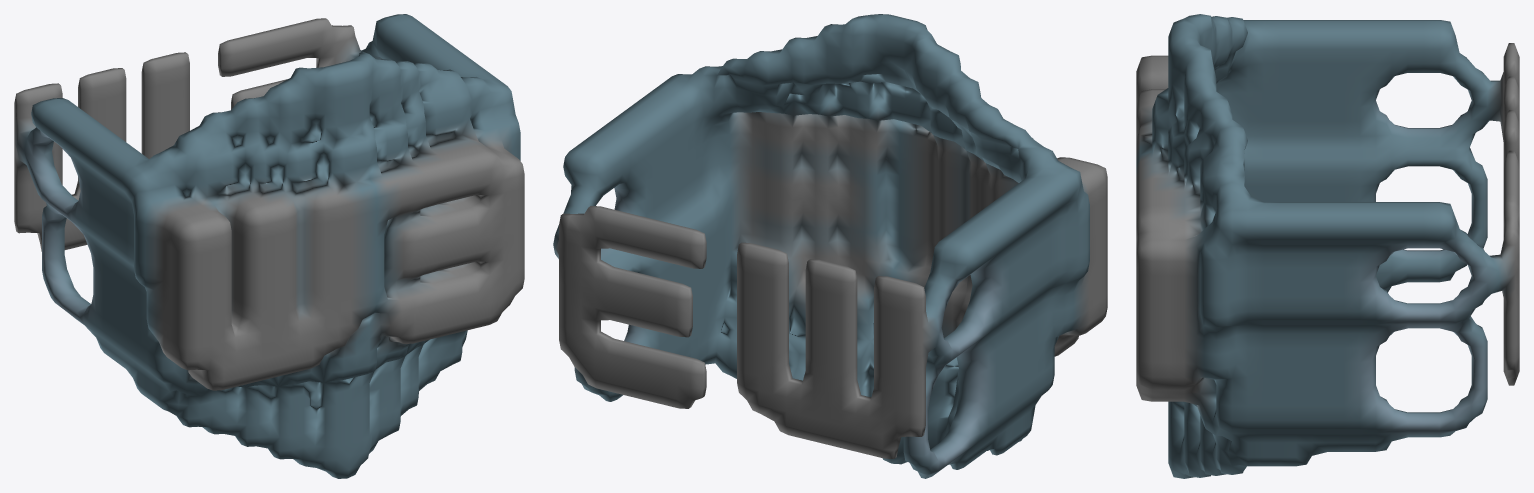
3 renders of one model, left to right at view 1: azimuth 30°, elevation 25°; view 2: azimuth 150°, elevation 25°; view 3: azimuth 270°, elevation 25°, orthographic. The views are drawn at different scales.
Size of the model in its own units: 1.5 by 1.55 by 1.2.
